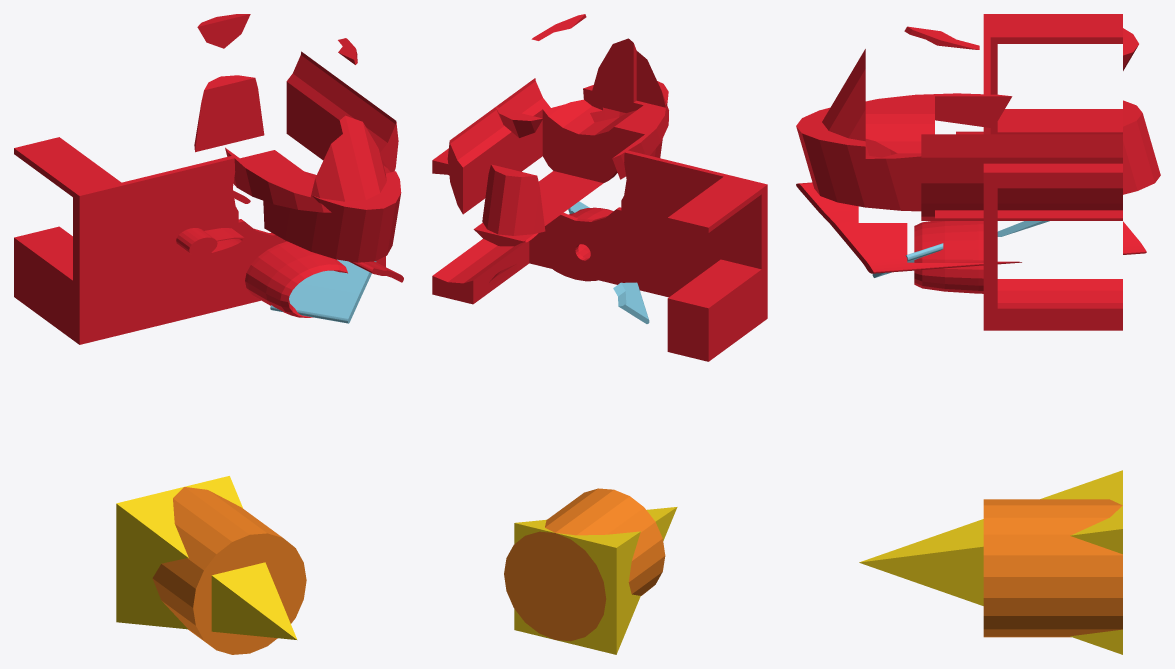
The model's file is tinker.obj.
The picture shows the model from 3 angles, left to right: view 1: azimuth 30°, elevation 25°; view 2: azimuth 150°, elevation 25°; view 3: azimuth 270°, elevation 25°; orthographic projection. The views are drawn at different scales.
Parts seen in each view (by area): view 1: group_0_15277357, group_0_16768282, group_0_16089887, group_0_8768998; view 2: group_0_15277357, group_0_16089887, group_0_16768282, group_0_8768998; view 3: group_0_15277357, group_0_16089887, group_0_16768282, group_0_8768998.
Boxes of the visible parts, <box> form: group_0_15277357: <box>14,14,403,344</box>; group_0_16768282: <box>116,476,297,639</box>; group_0_16089887: <box>152,487,306,654</box>; group_0_8768998: <box>270,259,376,323</box>; group_0_15277357: <box>432,14,767,361</box>; group_0_16089887: <box>504,488,665,641</box>; group_0_16768282: <box>514,507,677,654</box>; group_0_8768998: <box>568,201,649,323</box>; group_0_15277357: <box>796,14,1160,330</box>; group_0_16089887: <box>983,499,1122,637</box>; group_0_16768282: <box>859,470,1122,654</box>; group_0_8768998: <box>872,221,1049,277</box>.
Bounding box in the file's own units: 54 × 102 × 52.47.
